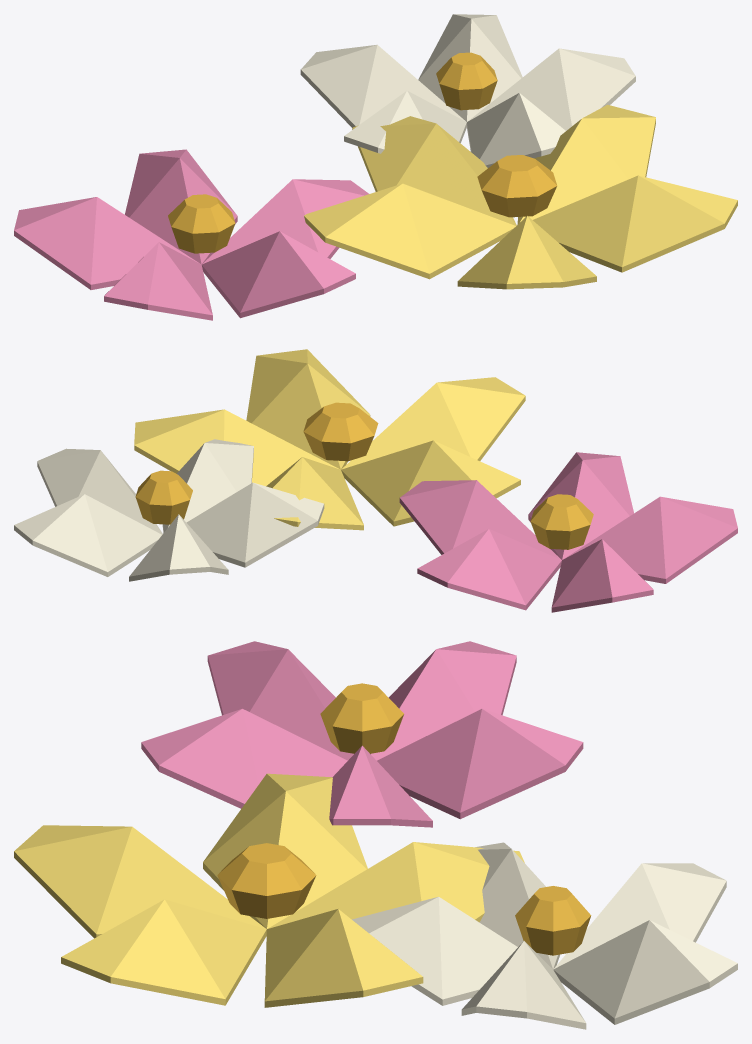
3 renders of one model, top to bottom at view 1: azimuth 30°, elevation 25°; view 2: azimuth 150°, elevation 25°; view 3: azimuth 270°, elevation 25°, orthographic. The views are drawn at different scales.
Visible parts, largest first — view 1: 三色花簇_2.001; view 2: 三色花簇_2.001; view 3: 三色花簇_2.001.
Part boxes in pixels (box(x1,y1,x2,y2)): 三色花簇_2.001: box(14, 14, 737, 320); 三色花簇_2.001: box(14, 349, 737, 612); 三色花簇_2.001: box(14, 641, 737, 1029).
Bounding box in the file's own units: 0.3678 × 0.038 × 0.3034.
